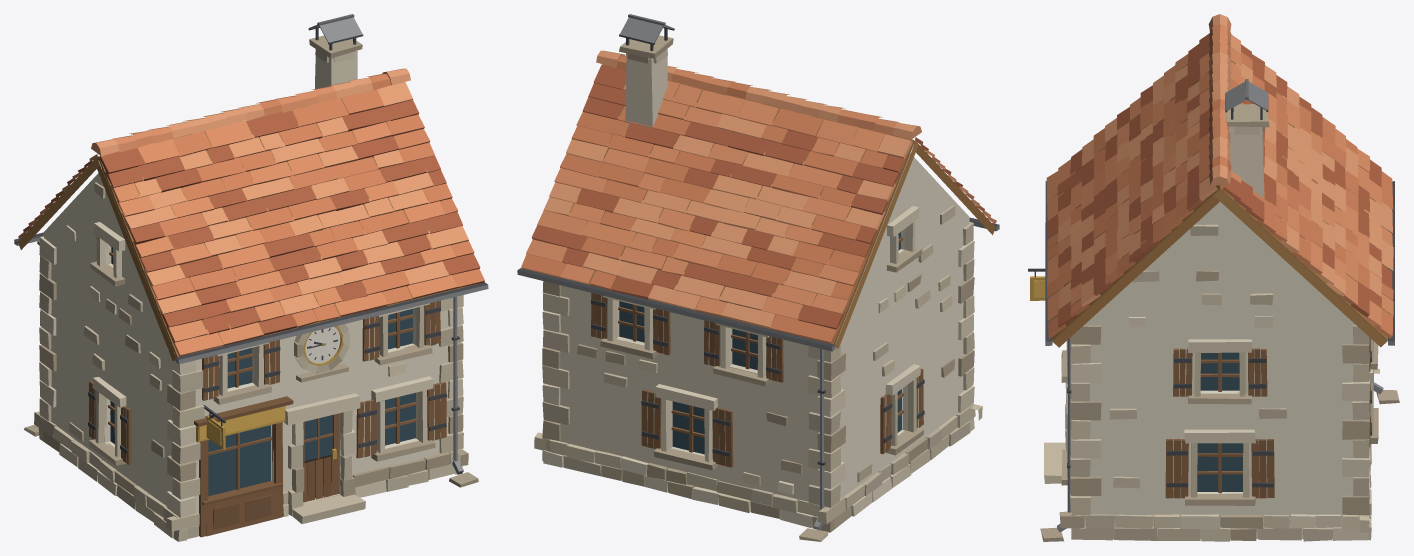
File: horloger.glb
3 renders of one model, left to right at view 1: azimuth 30°, elevation 25°; view 2: azimuth 150°, elevation 25°; view 3: azimuth 270°, elevation 25°, orthographic. The views are drawn at different scales.
Parts seen in each view (by area): view 1: horloger; view 2: horloger; view 3: horloger.
Part boxes in pixels (bbox=[...]): horloger: bbox=[14, 14, 488, 541]; horloger: bbox=[517, 14, 999, 541]; horloger: bbox=[1028, 14, 1399, 541].
Bounding box in the file's own units: 7.83 × 9.75 × 7.65.
